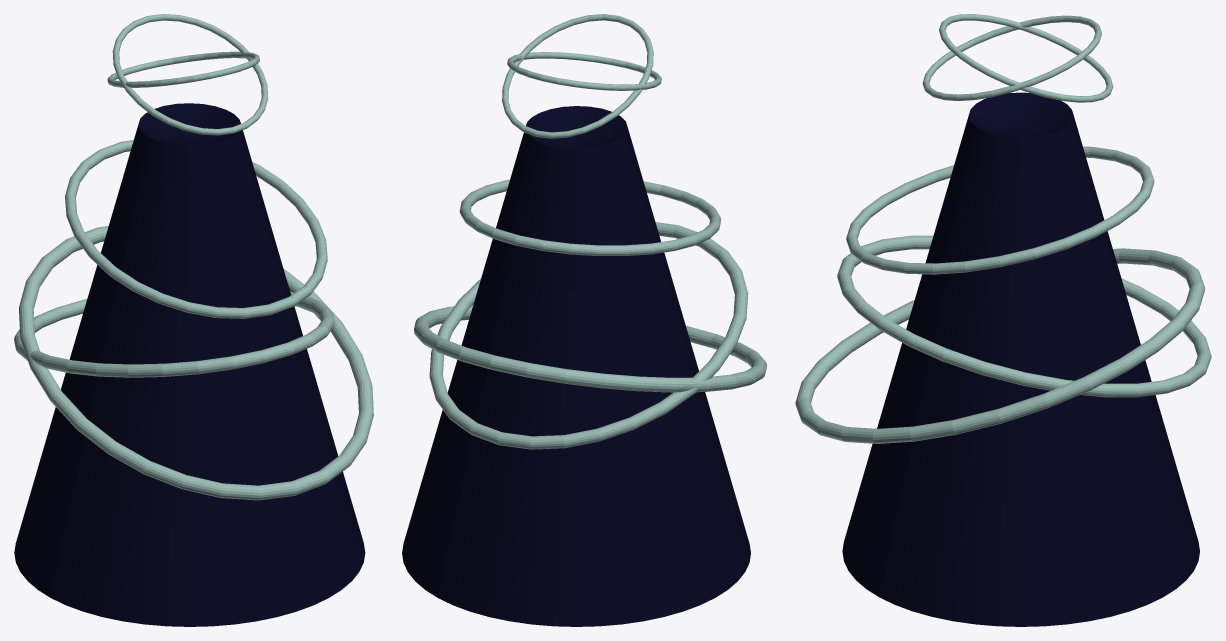
The model's file is MagicTower.FBX.
3 renders of one model, left to right at view 1: azimuth 30°, elevation 25°; view 2: azimuth 150°, elevation 25°; view 3: azimuth 270°, elevation 25°, orthographic. The views are drawn at different scales.
Visible parts, largest first — view 1: body, bottomRing2, middleRing1, bottomRing1, topRing2, topRing1; view 2: body, bottomRing1, bottomRing2, middleRing1, topRing1, topRing2; view 3: body, bottomRing2, bottomRing1, middleRing1, topRing2, topRing1.
Boxes of the visible parts, x1,y1,x2,y2 form: body: [14, 103, 365, 626]; bottomRing2: [19, 226, 373, 500]; middleRing1: [65, 140, 327, 318]; bottomRing1: [14, 291, 334, 377]; topRing2: [112, 14, 268, 135]; topRing1: [107, 51, 259, 87]; body: [402, 106, 750, 626]; bottomRing1: [429, 222, 748, 449]; bottomRing2: [414, 305, 766, 392]; middleRing1: [459, 179, 720, 255]; topRing1: [502, 14, 653, 138]; topRing2: [507, 52, 661, 90]; body: [842, 92, 1199, 626]; bottomRing2: [795, 248, 1205, 443]; bottomRing1: [837, 235, 1211, 397]; middleRing1: [846, 146, 1154, 274]; topRing2: [922, 15, 1101, 100]; topRing1: [939, 14, 1113, 102].
Size of the model in its own units: 31.54 by 36.7 by 50.81.
